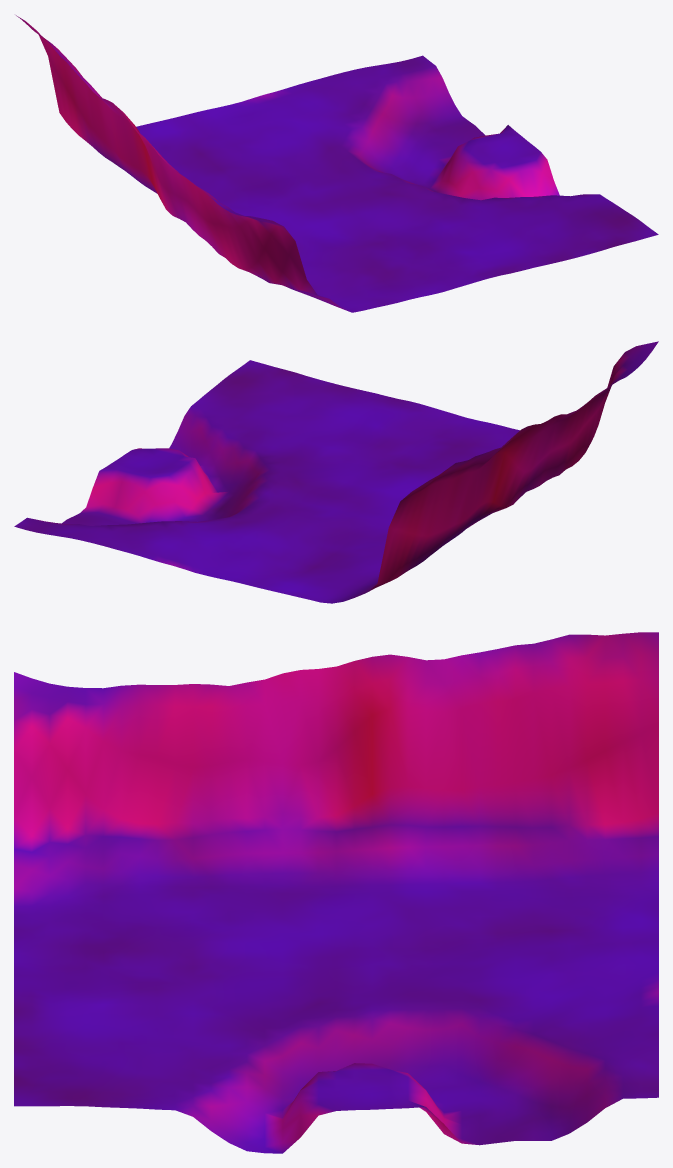
The model's file is ground_20.glb.
3 renders of one model, top to bottom at view 1: azimuth 30°, elevation 25°; view 2: azimuth 150°, elevation 25°; view 3: azimuth 270°, elevation 25°, orthographic. The views are drawn at different scales.
Visible parts, largest first — view 1: Ground_20; view 2: Ground_20; view 3: Ground_20.
Boxes of the visible parts, x1=… form: Ground_20: x1=16, y1=15, x2=658, y2=312; Ground_20: x1=14, y1=341, x2=658, y2=603; Ground_20: x1=14, y1=632, x2=658, y2=1153.
Size of what is drawn, in the model's own units: 36 by 15.41 by 36.
